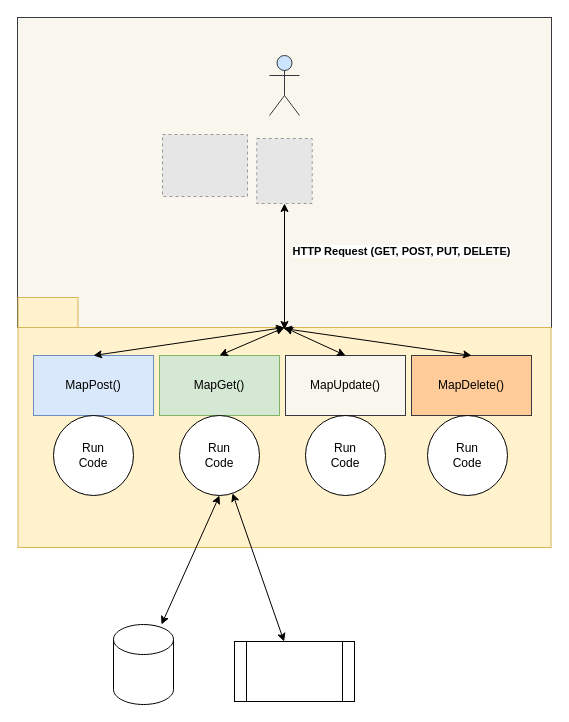
The diagram is 569 pixels wide and 722 high, and some of its shapes have lost their labels. Grey dashed boxes stand in for pictures. Each missing label, with the box of its shape:
Client: (268, 54, 300, 116)
InMemoryDB: (234, 640, 354, 702)
MySQL: (112, 624, 174, 704)
Web API: (17, 296, 78, 328)
